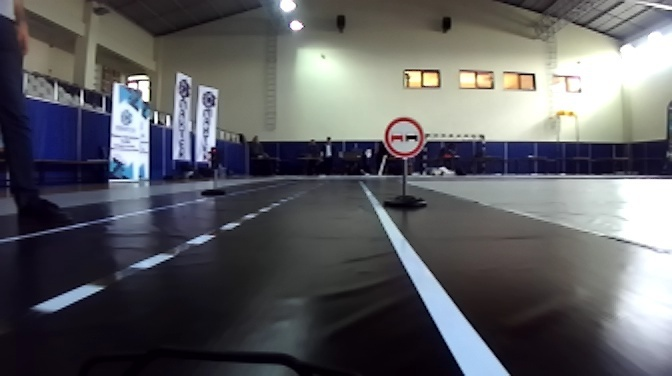sollama_yasak: (384, 118, 424, 160)
